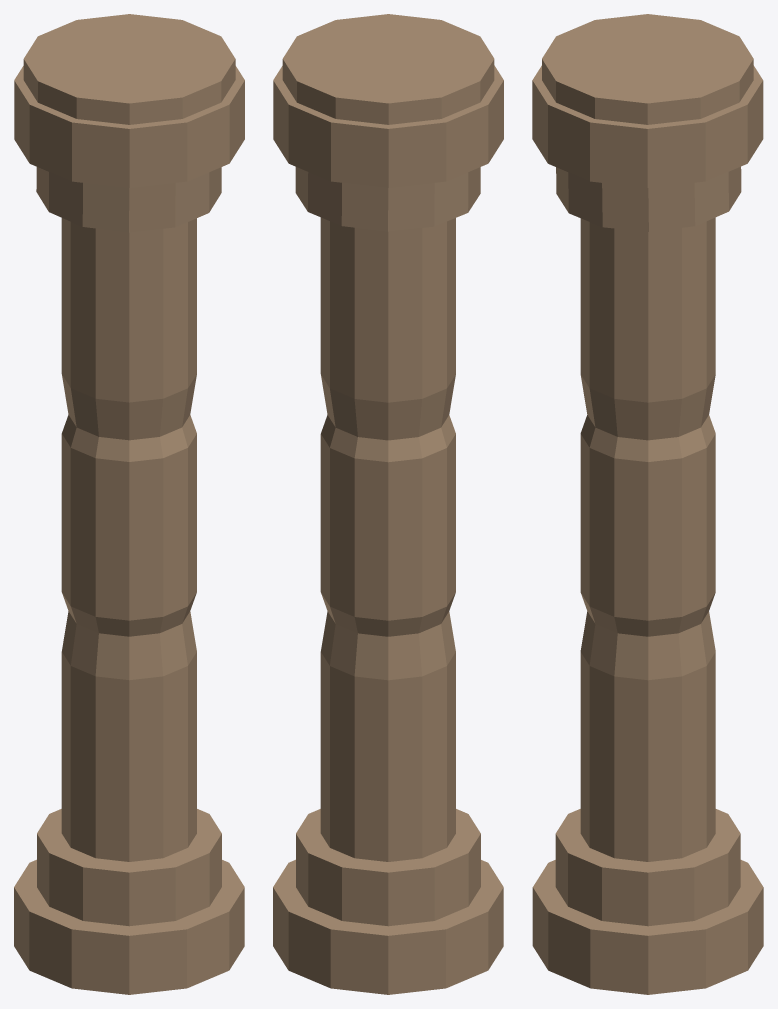
The model's file is sutun.fbx.
3 renders of one model, left to right at view 1: azimuth 30°, elevation 25°; view 2: azimuth 150°, elevation 25°; view 3: azimuth 270°, elevation 25°, orthographic.
Parts seen in each view (by area): view 1: Cylinder.006, Cylinder.011, Cylinder.007, Cylinder.009, Cylinder.008, Cylinder.010; view 2: Cylinder.006, Cylinder.011, Cylinder.007, Cylinder.009, Cylinder.008, Cylinder.010; view 3: Cylinder.006, Cylinder.011, Cylinder.007, Cylinder.009, Cylinder.008, Cylinder.010.
Part boxes in pixels (left/top/right/bottom): Cylinder.006: left=61, top=218, right=196, bottom=861; Cylinder.011: left=23, top=14, right=235, bottom=124; Cylinder.007: left=14, top=859, right=244, bottom=994; Cylinder.009: left=14, top=66, right=244, bottom=187; Cylinder.008: left=37, top=809, right=221, bottom=926; Cylinder.010: left=36, top=167, right=221, bottom=232; Cylinder.006: left=320, top=217, right=455, bottom=861; Cylinder.011: left=282, top=14, right=494, bottom=124; Cylinder.007: left=273, top=859, right=503, bottom=994; Cylinder.009: left=273, top=65, right=503, bottom=187; Cylinder.008: left=296, top=809, right=480, bottom=926; Cylinder.010: left=295, top=167, right=480, bottom=231; Cylinder.006: left=580, top=217, right=715, bottom=861; Cylinder.011: left=542, top=14, right=753, bottom=124; Cylinder.007: left=532, top=860, right=763, bottom=994; Cylinder.009: left=532, top=65, right=763, bottom=187; Cylinder.008: left=555, top=809, right=740, bottom=926; Cylinder.010: left=556, top=166, right=741, bottom=231.
Size of the model in its own units: 568 by 2411 by 569.
